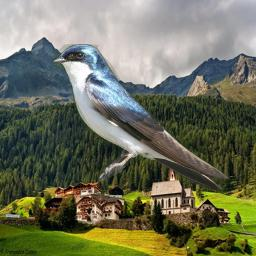Swallow: (52, 44, 230, 192)
